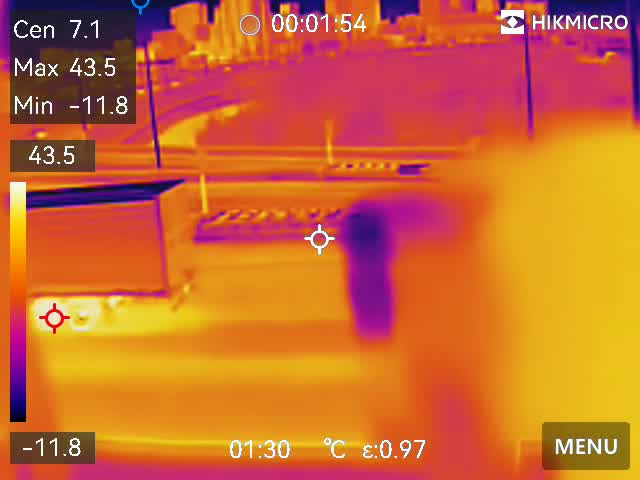heavyTruck: (28, 184, 202, 329)
